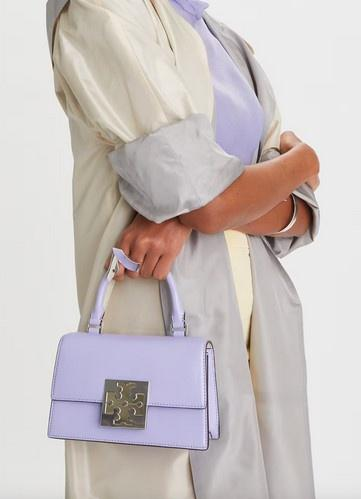TORY-BURCH: (105, 382, 144, 426)
